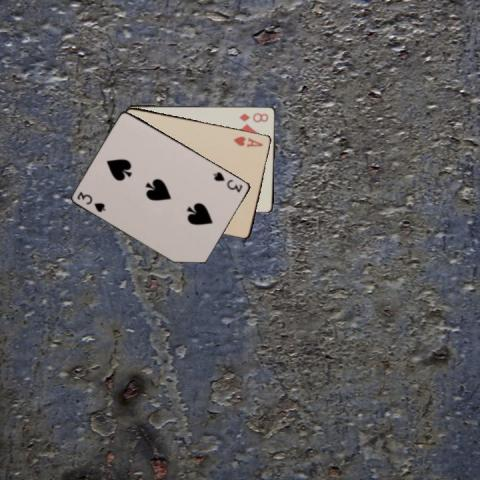3s: (211, 169, 244, 194), (74, 189, 107, 213)
8d: (236, 110, 270, 123)
Ah: (230, 133, 264, 149)
